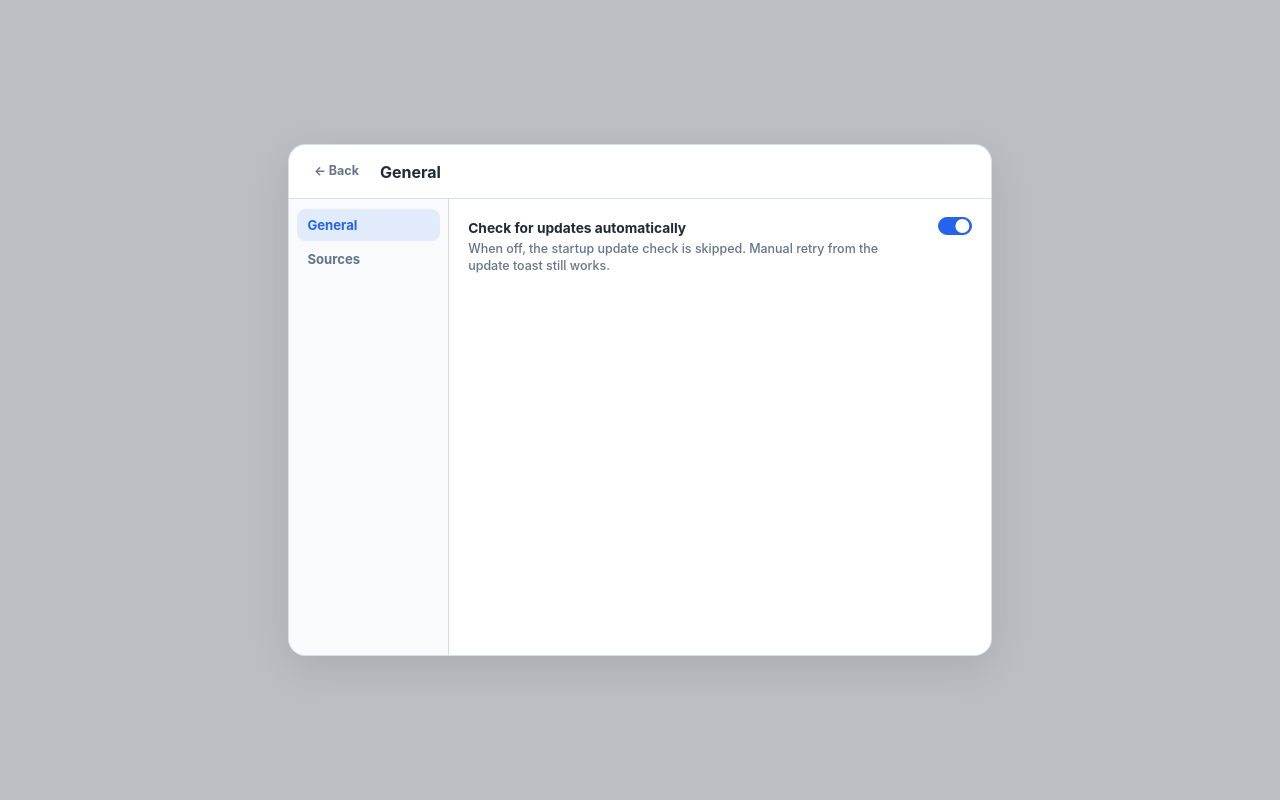
Test case: SettingsPage › renders categories and descriptors from the snapshot
The width and height of the screenshot is (1280, 800).
Check: the navigation bar named "Settings categories" shows "General", box [297,209,440,241]
Click the button "Sources" at (368, 259), box [297,243,440,275]
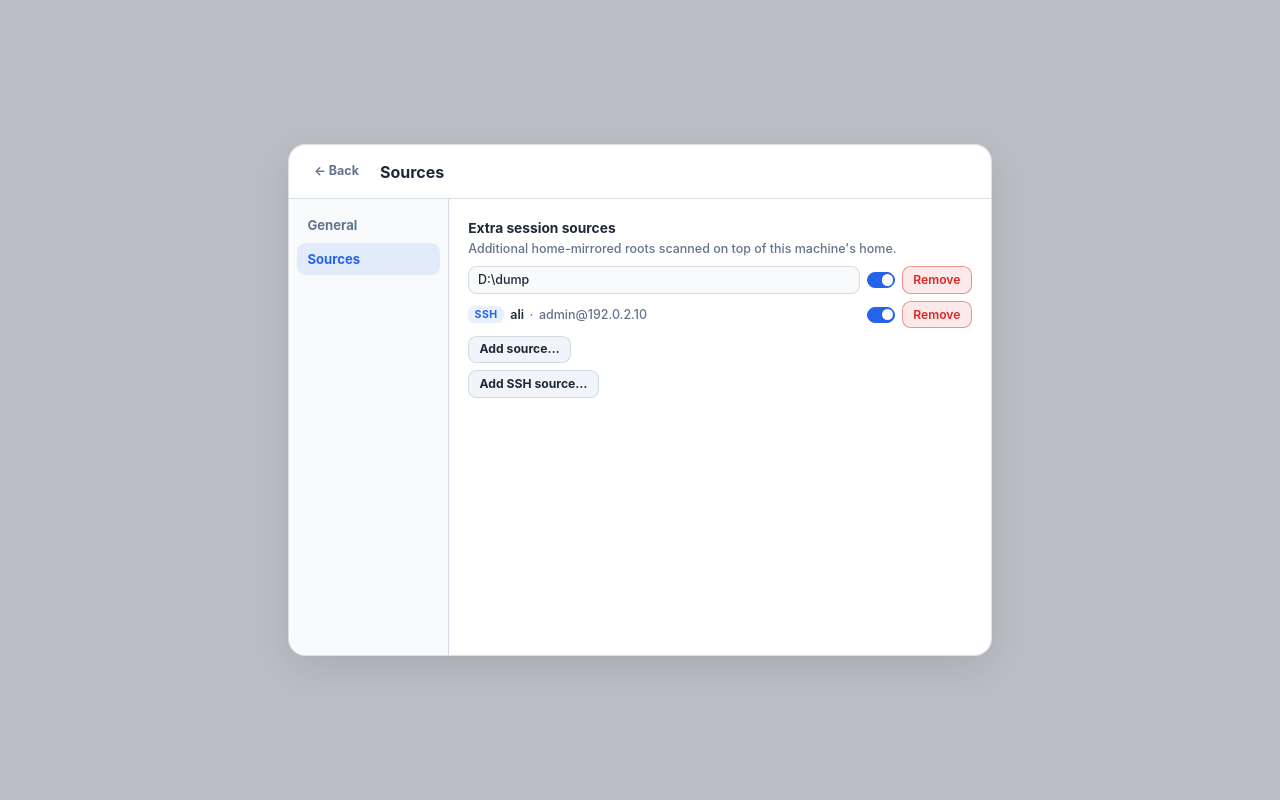
Check: the field named "Source 1 path" holds "D:\\dump", box [468,266,860,294]
Check: the text "SSH" is shown, box [468,306,504,323]
Check: the text "ali" is shown, box [510,307,524,322]
